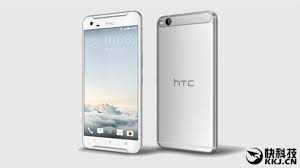htc: (79, 6, 145, 157), (152, 9, 217, 154)
